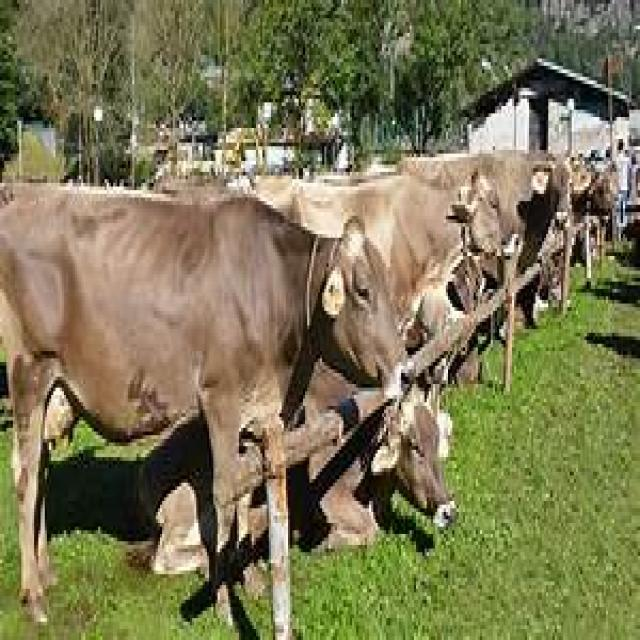cow: (0, 189, 404, 615), (256, 154, 565, 348), (304, 360, 453, 547)
